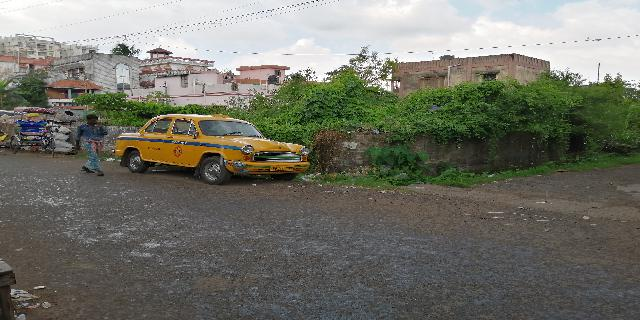Car: (114, 105, 313, 178)
Rickshaw: (14, 106, 58, 159)
